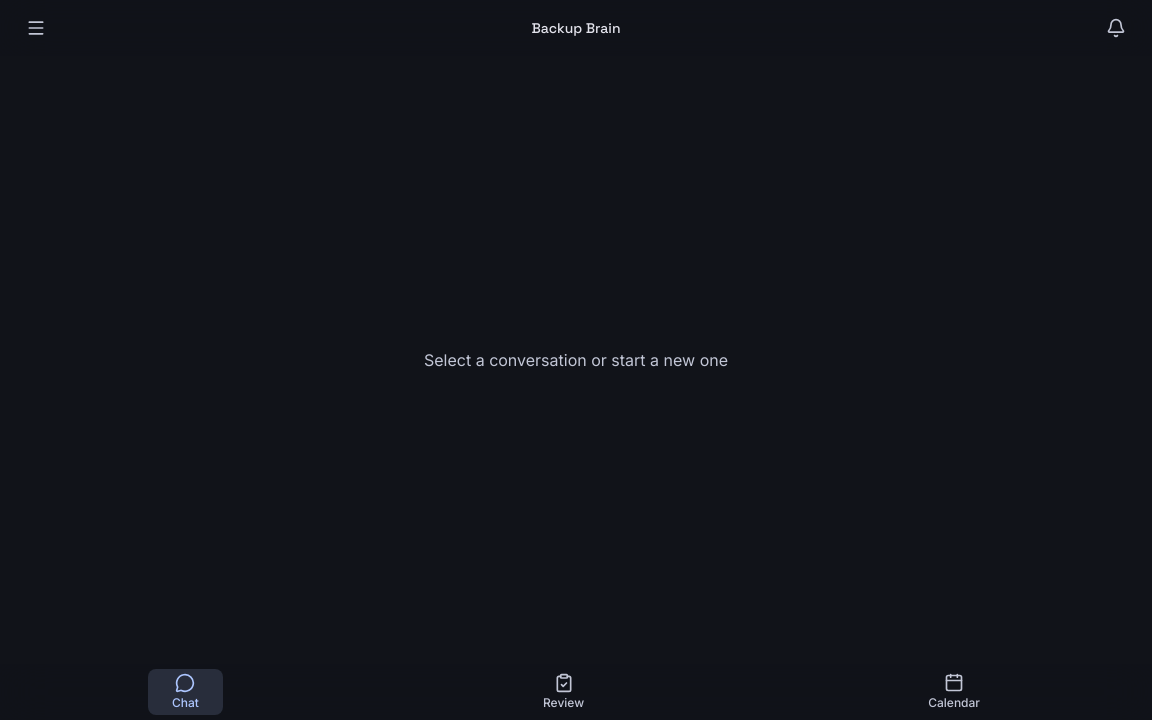
Test case: Auth flow › signs out and returns to login
This screenshot has width=1152, height=720.
Click the button with test id "menu-button".
click(36, 28)  # box [16,8,56,48]
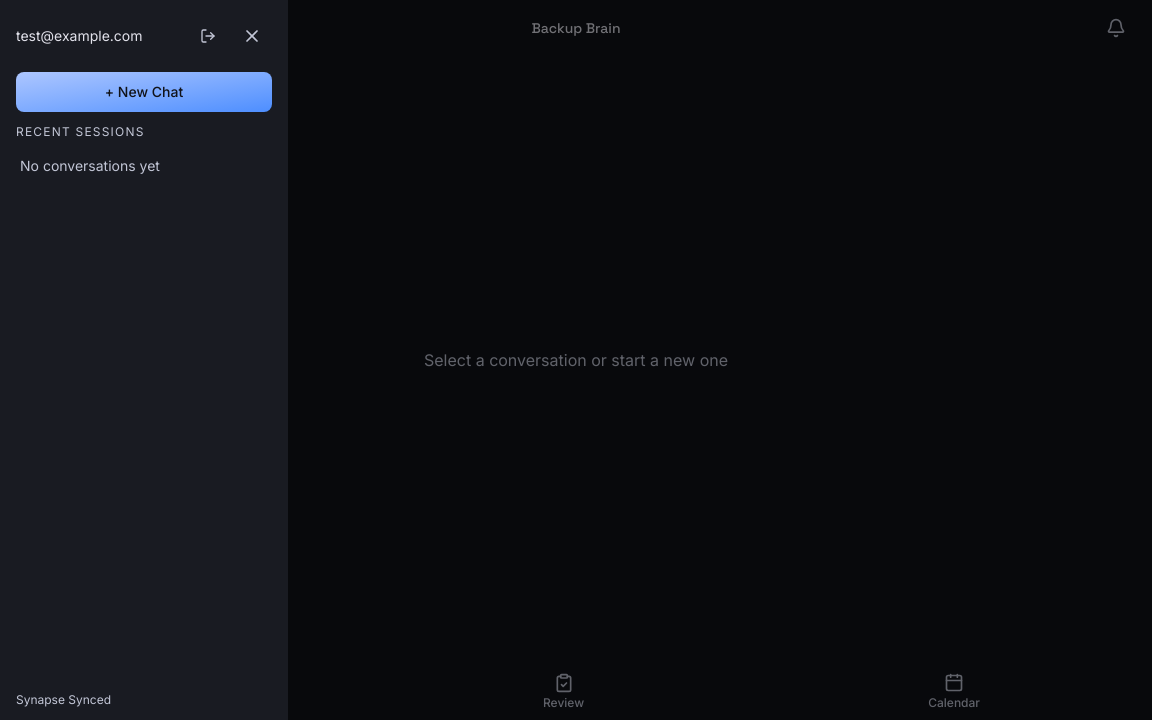
Click the button with test id "drawer-sign-out".
click(208, 36)  # box [188,16,228,56]
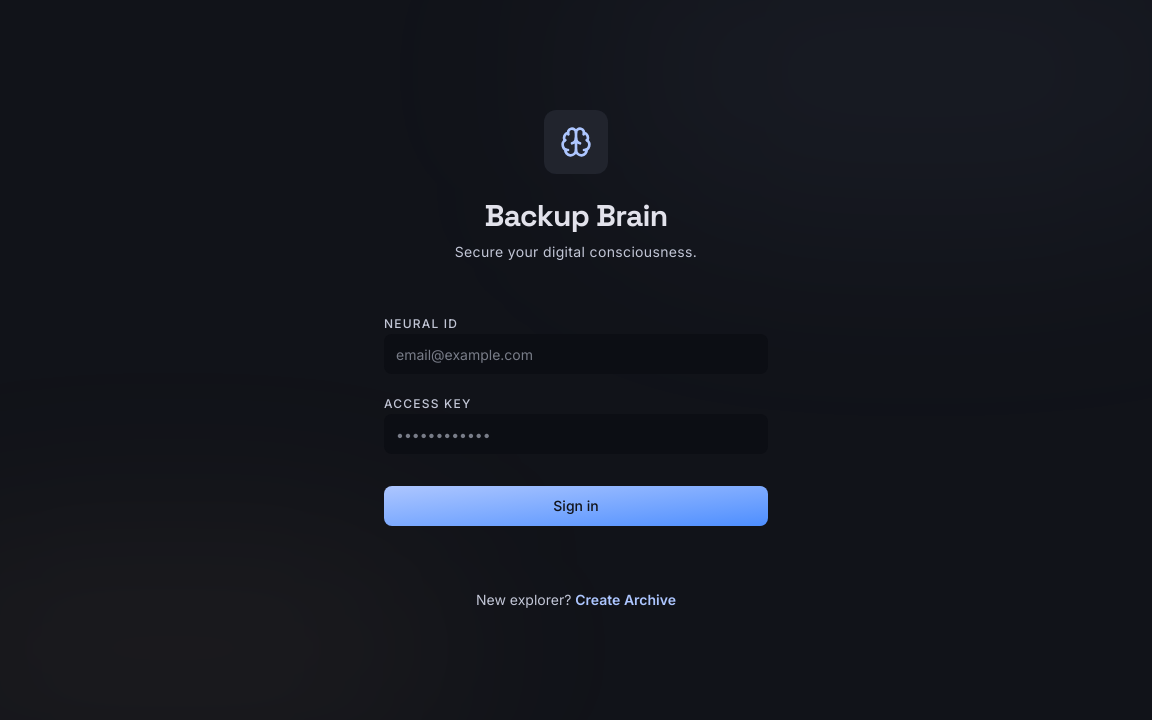
Expected: the text "Secure your digital consciousness." is shown, [455,242,697,262]
